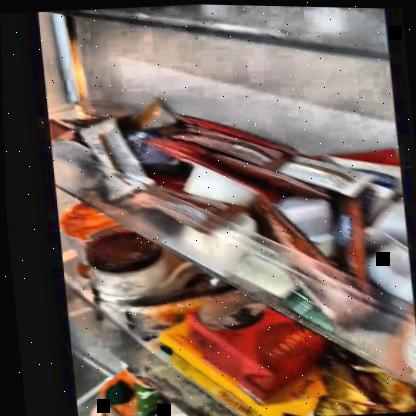butter: (148, 333, 310, 415)
